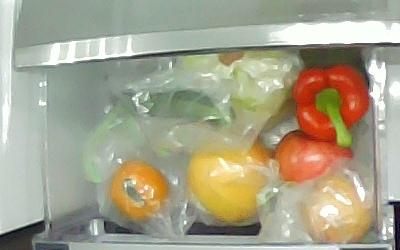apple: (273, 130, 355, 199)
cucumber: (99, 86, 236, 127)
grapefruit: (187, 138, 273, 221)
lettuce: (180, 45, 299, 121)
paprika: (292, 65, 369, 146)
peach: (300, 173, 377, 241)
persimmon: (112, 159, 167, 222)
